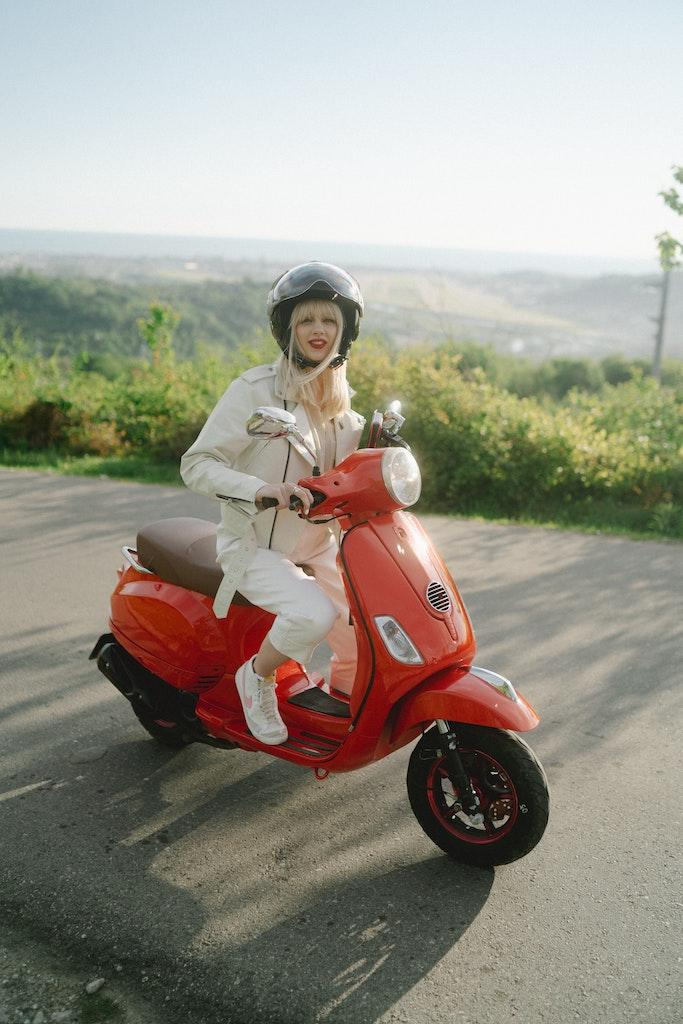helmet: (266, 259, 365, 371)
